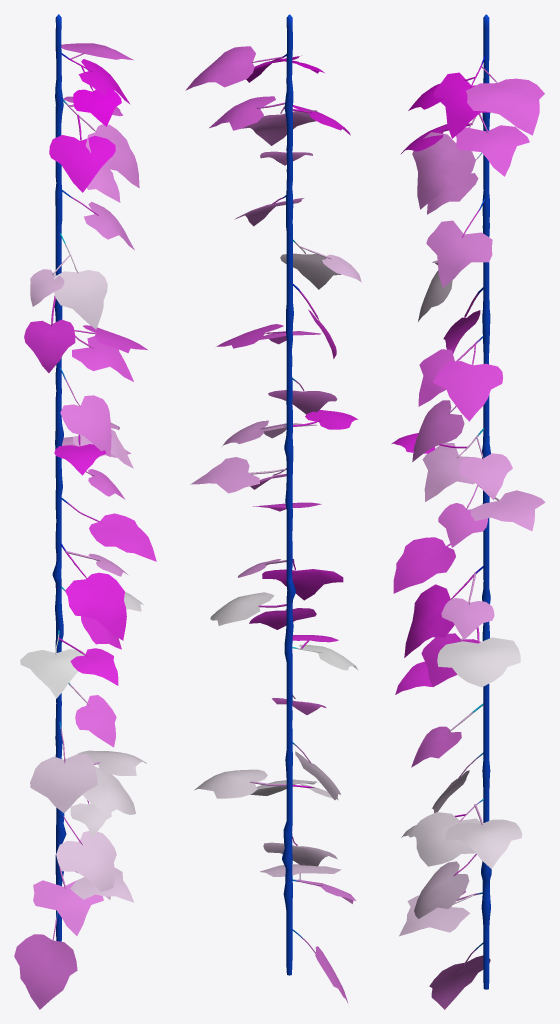
Rendered from English_Ivy_xfcnebhqx_High_xfcnebhqx_VarD_LOD0.fbx.
3 renders of one model, left to right at view 1: azimuth 30°, elevation 25°; view 2: azimuth 150°, elevation 25°; view 3: azimuth 270°, elevation 25°, orthographic. The views are drawn at different scales.
Visible parts, largest first — view 1: _i1rj_VarD_LOD0; view 2: _i1rj_VarD_LOD0; view 3: _i1rj_VarD_LOD0.
Part boxes in pixels (x1=…): _i1rj_VarD_LOD0: x1=14, y1=14, x2=156, y2=1009; _i1rj_VarD_LOD0: x1=185, y1=14, x2=361, y2=1002; _i1rj_VarD_LOD0: x1=391, y1=14, x2=545, y2=1009.
Size of the model in its own units: 11.52 by 77.15 by 10.69.
